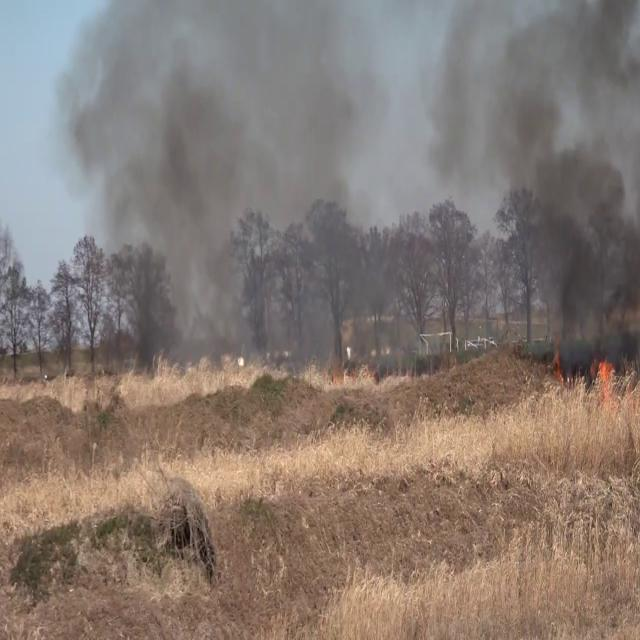Smoke: (80, 0, 402, 388), (446, 0, 639, 357)
